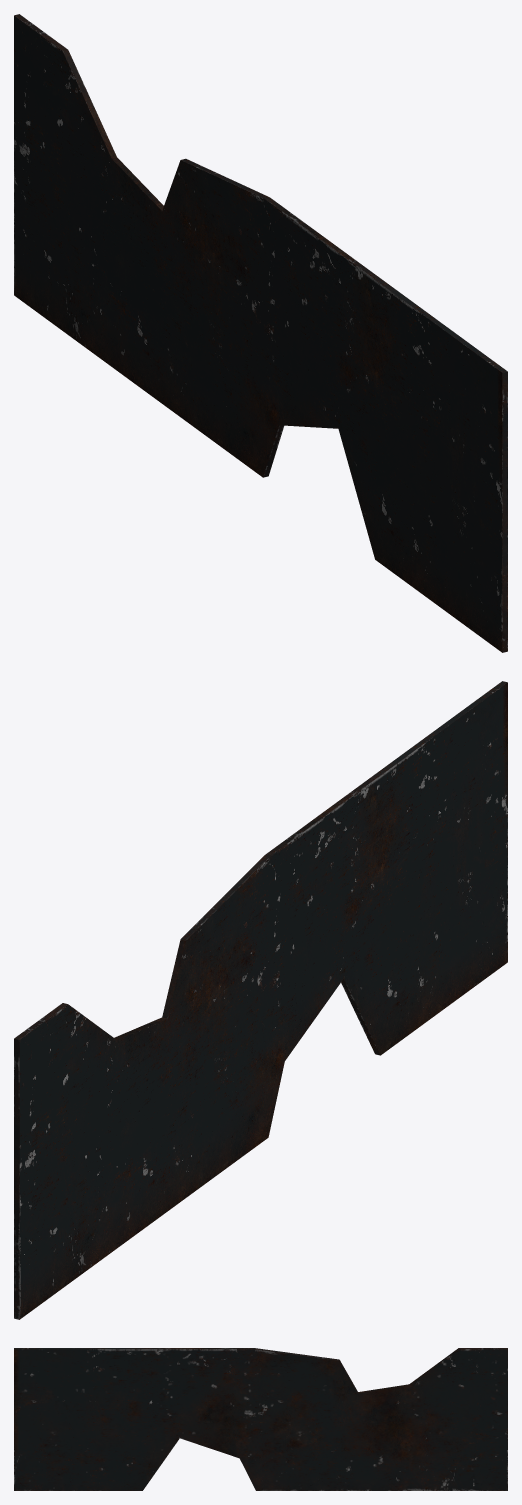
File: B4_Rusty.gltf
3 renders of one model, top to bottom at view 1: azimuth 30°, elevation 25°; view 2: azimuth 150°, elevation 25°; view 3: azimuth 270°, elevation 25°, orthographic. The views are drawn at different scales.
Parts seen in each view (by area): view 1: Cube.002; view 2: Cube.002; view 3: Cube.002.
Part boxes in pixels (box(x1,y1,x2,y2)): Cube.002: box(14, 14, 507, 652); Cube.002: box(14, 681, 507, 1319); Cube.002: box(14, 1348, 507, 1490).
Bounding box in the file's own units: 0.037 × 1.8 × 5.7.
Materials: 1 (1 with a texture image).
